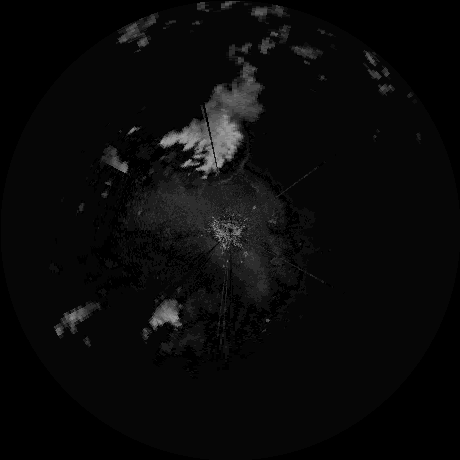frontgust: (213, 139, 252, 189)
